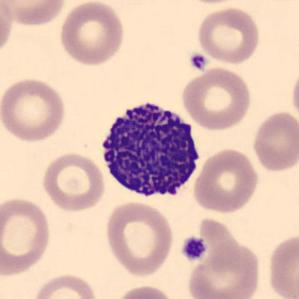Basophil: (95, 93, 205, 204)
Platelets: (179, 234, 208, 264), (187, 51, 208, 72)
RBC: (103, 198, 175, 278), (179, 66, 254, 132), (191, 146, 261, 215), (57, 0, 127, 68), (0, 75, 69, 143), (185, 241, 263, 299), (0, 194, 53, 277), (39, 151, 106, 213), (194, 5, 262, 66), (250, 109, 298, 173), (197, 219, 244, 272), (265, 230, 299, 299), (30, 272, 100, 299), (1, 0, 68, 27), (114, 283, 178, 299), (0, 0, 15, 58), (288, 63, 299, 124), (176, 0, 246, 6)
